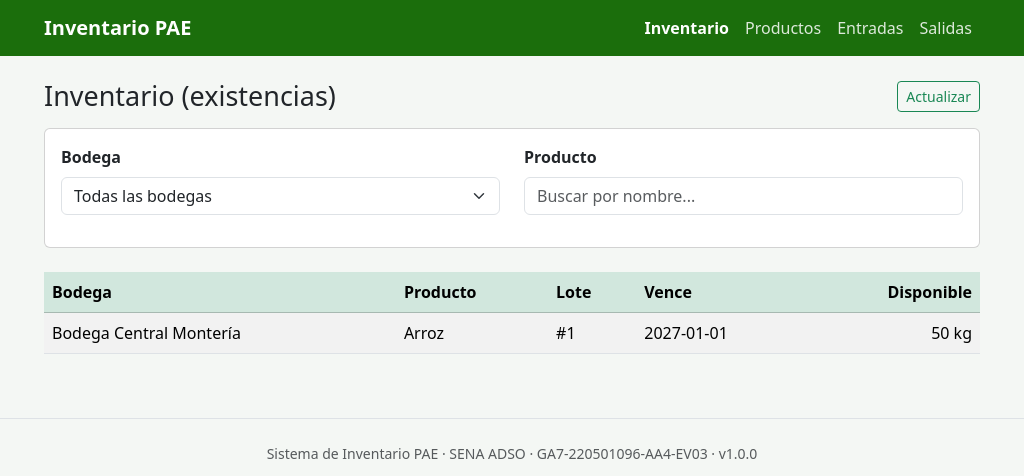
Test: Sistema de Inventario PAE (front-end) › HU-05: muestra el inventario y filtra por producto
The image size is (1024, 476).
Expected: the text "Bodega Central Montería" is shown, [44,313,396,354]
Expected: the text "50 kg" is shown, [931,322,972,344]
Type "zzz" into the field with placeholder "Buscar por nombre...".
click(744, 196); type("zzz")  # box [524,177,963,215]
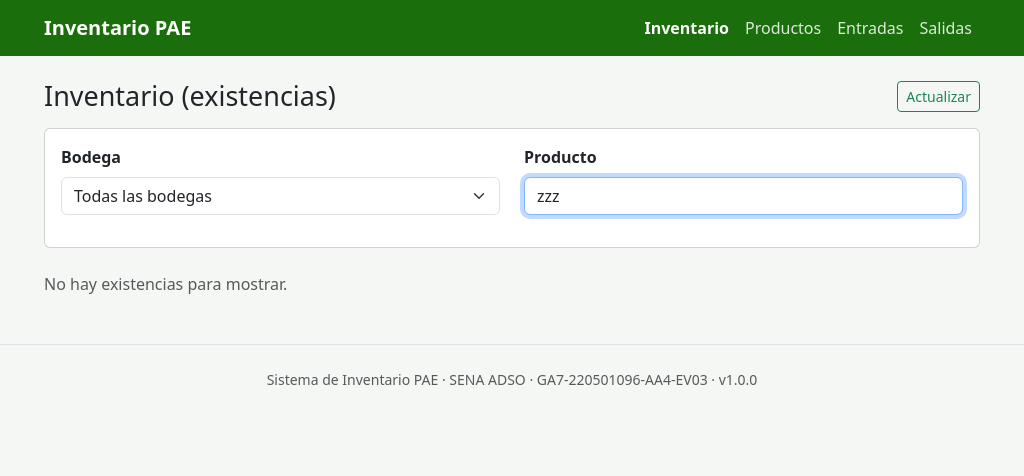
Now the text "No hay existencias para mostrar." is shown, box [44,273,287,295]
